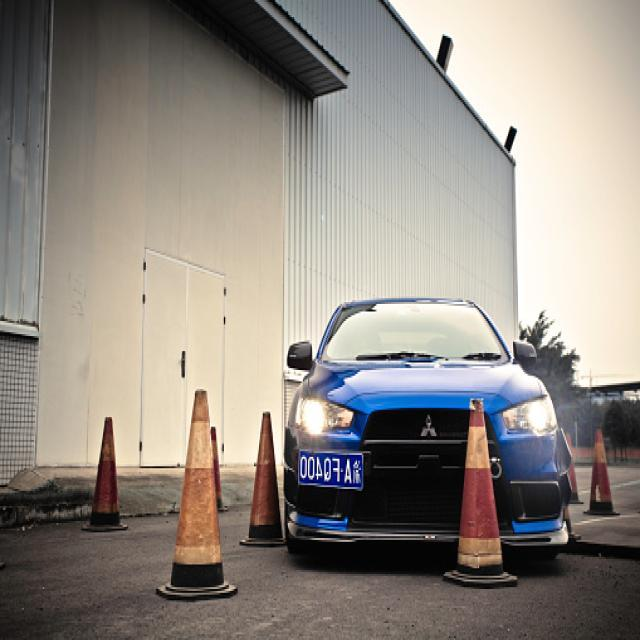car: (282, 296, 579, 564)
traffic cone: (155, 389, 238, 601), (442, 398, 519, 589), (239, 411, 287, 547), (80, 416, 128, 533), (583, 428, 621, 517), (208, 427, 229, 513), (567, 438, 583, 505)
